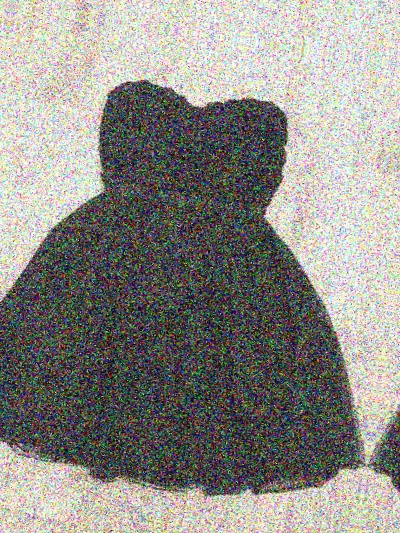Dress: (0, 51, 400, 532), (367, 114, 400, 533), (23, 0, 400, 22)
